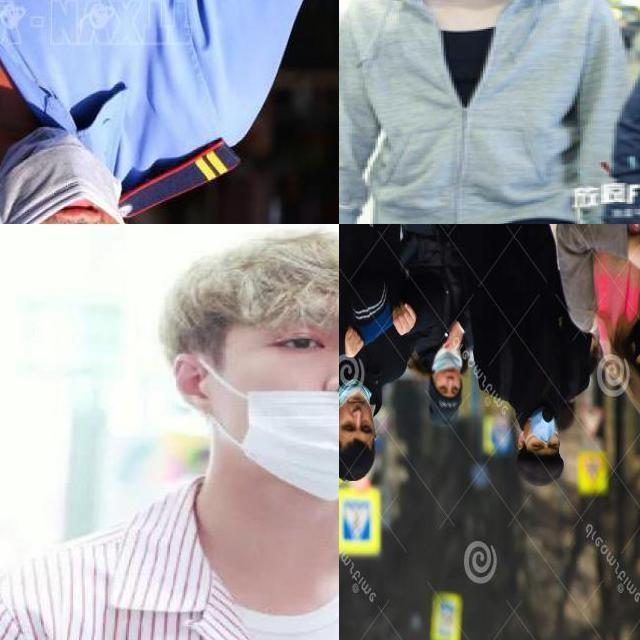hairnet: (253, 309, 338, 499), (0, 126, 132, 222), (339, 382, 371, 439), (435, 355, 460, 398)
no_apron: (390, 301, 422, 346), (342, 322, 367, 364)
no_gloves: (154, 229, 337, 343)
